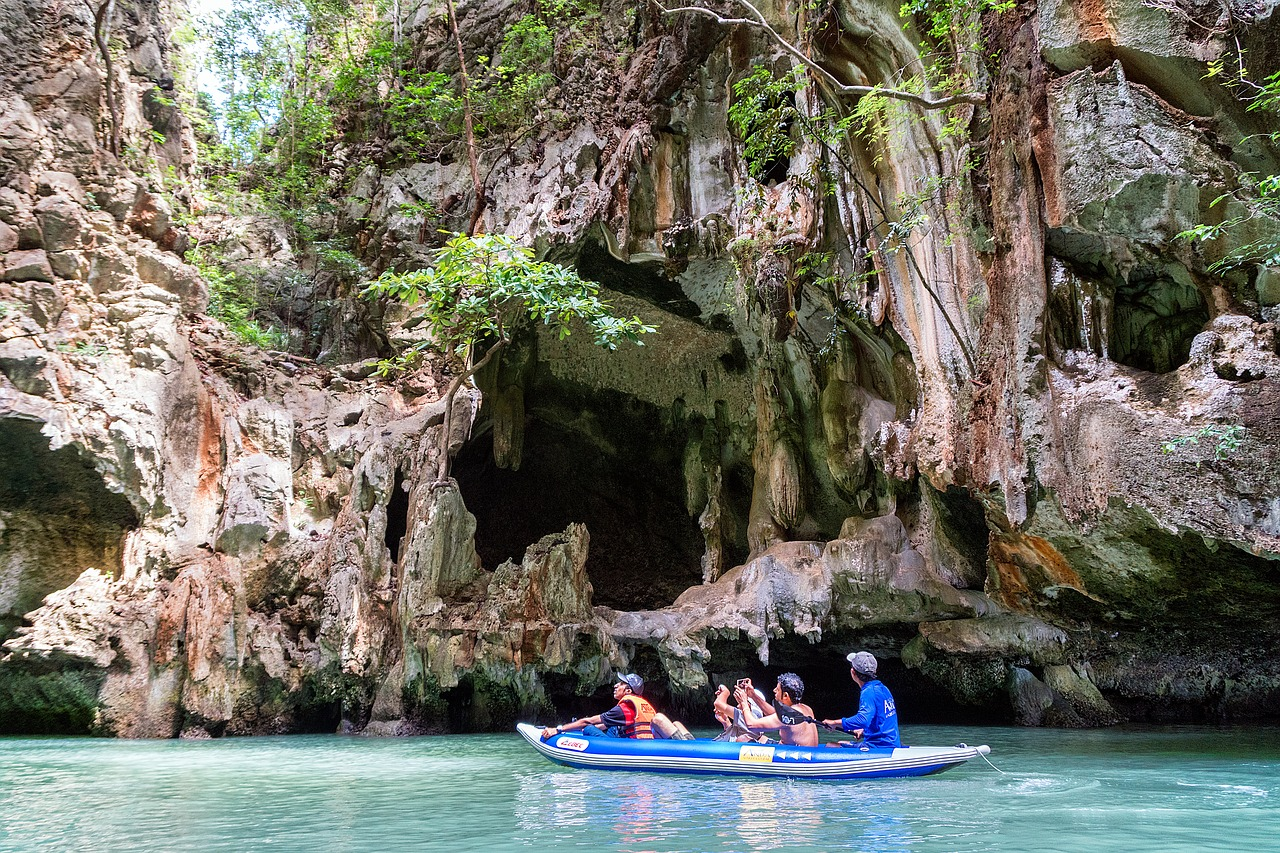kayak: (513, 721, 994, 781)
